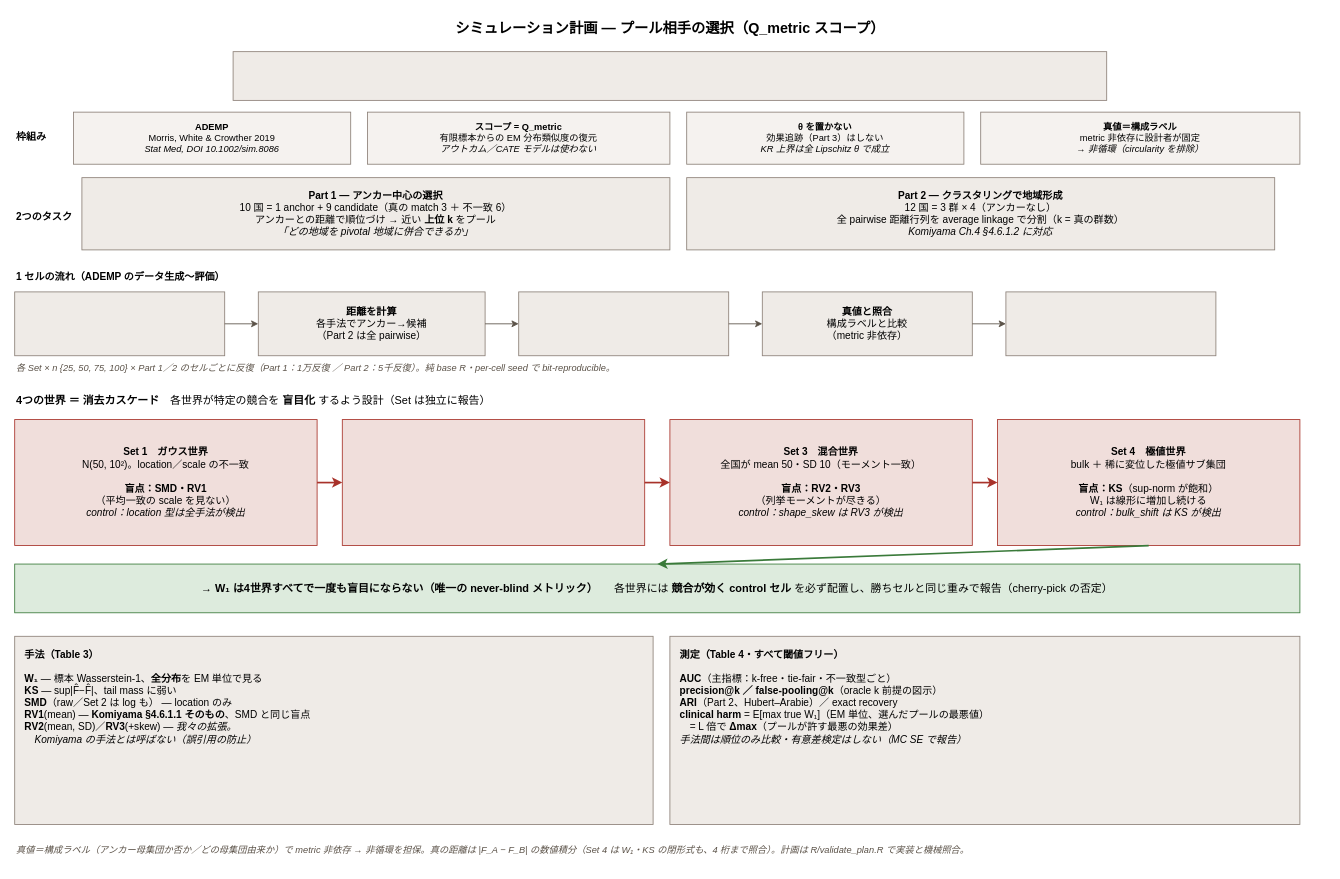
This 1340x879 diagram has some shape labels left out. Here are the shapes that lost their labels. From the top down, the centre of each, then its label:
(669,75): 問い（Tak） 各国が固有の効果修飾因子（EM）分布を持つ仮想シナリオで、分布メトリック W₁ は 『真に似た国』を競合手法より 正しく復元できるか ？
(119,323): 標本生成 各国から n を i.i.d. 抽出
(623,323): 選択／クラスタ 上位 k を選ぶ／ 距離行列を分割
(1110,323): 集計 R 反復の平均 ＋ Monte Carlo SE
(493,482): Set 2 対数正規世界 歪んだ世界。分散＋形状の不一致 盲点：SMD(raw) （log 変換でも形状に盲目） RV2 はまだ生存 → Set 3 が必要
